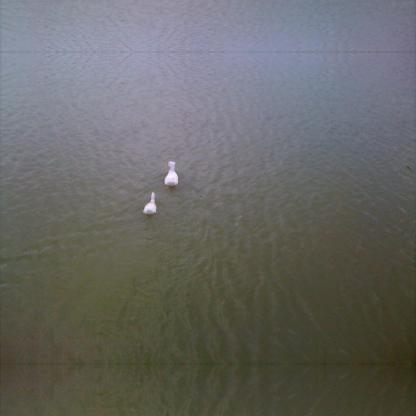Bird: (162, 158, 178, 186), (144, 190, 154, 212)
